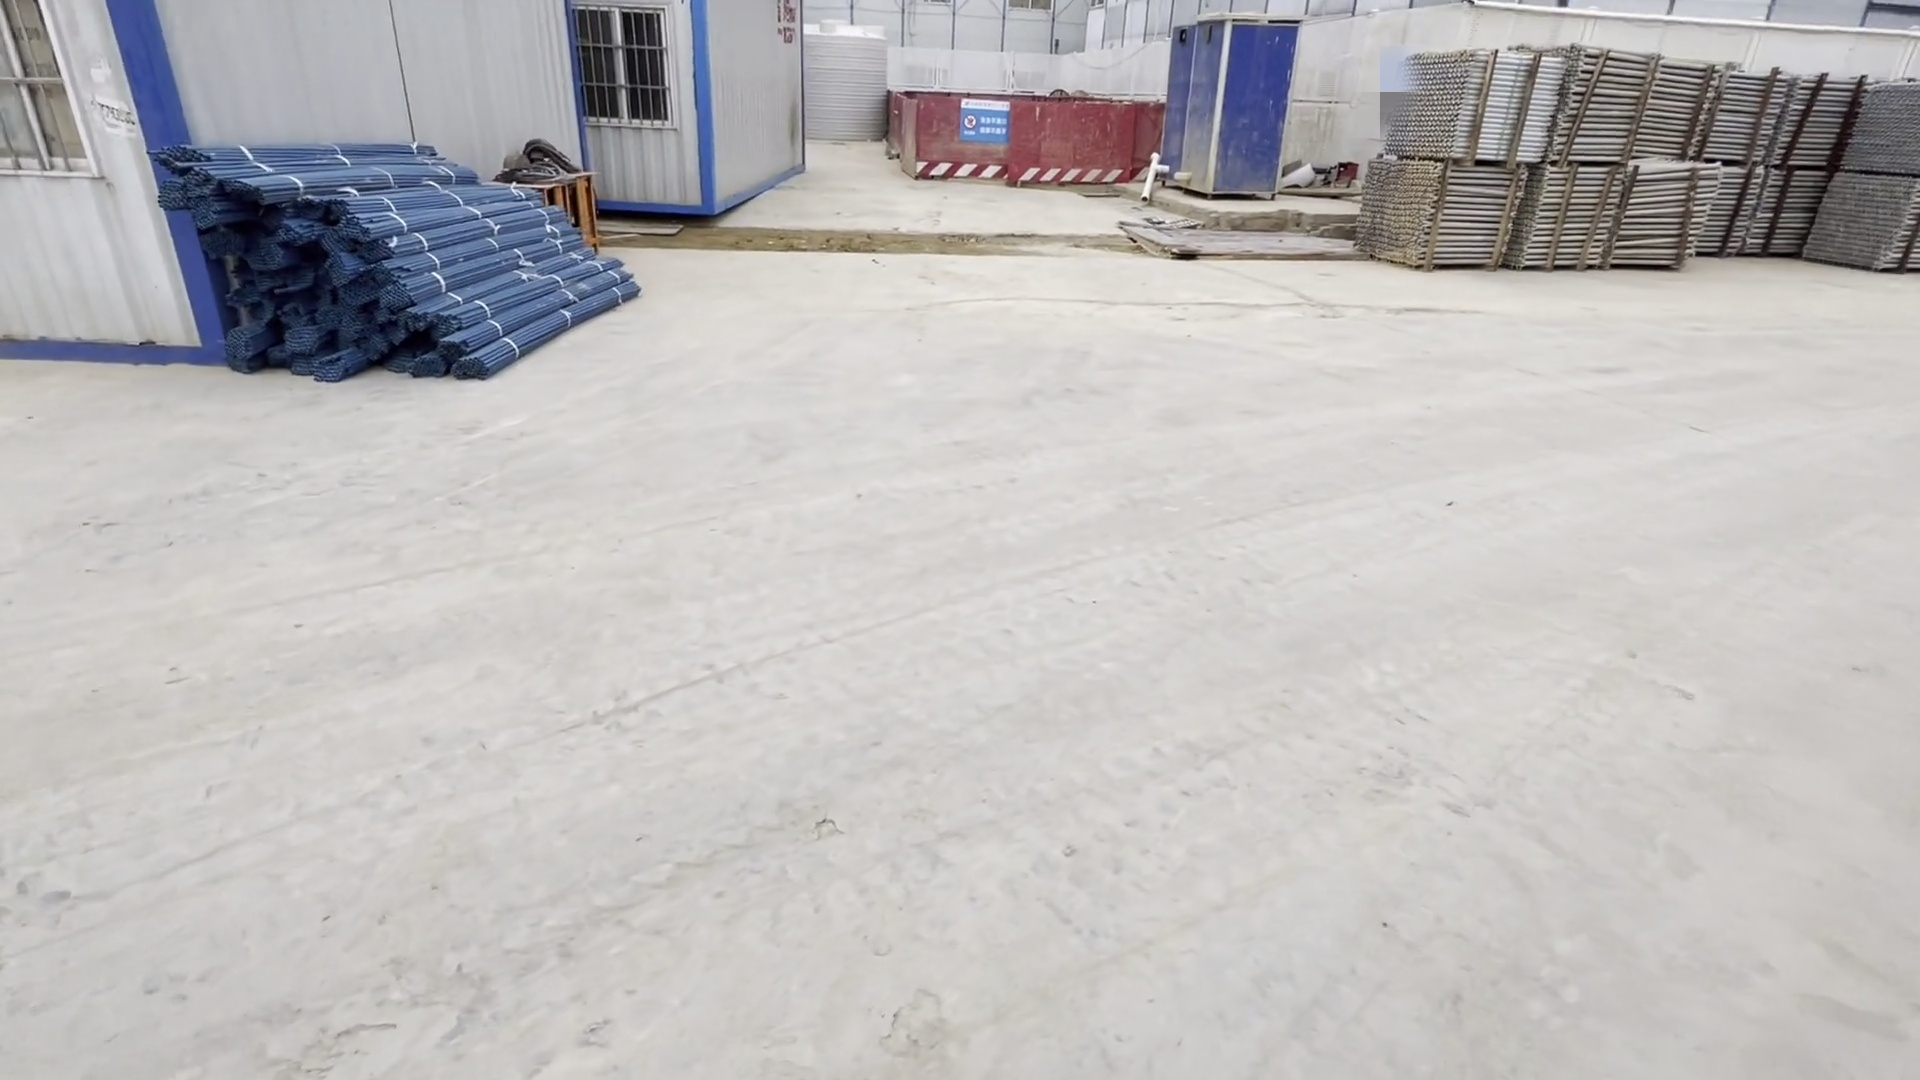fence: (893, 80, 1158, 199)
scaffold: (1358, 33, 1920, 297)
